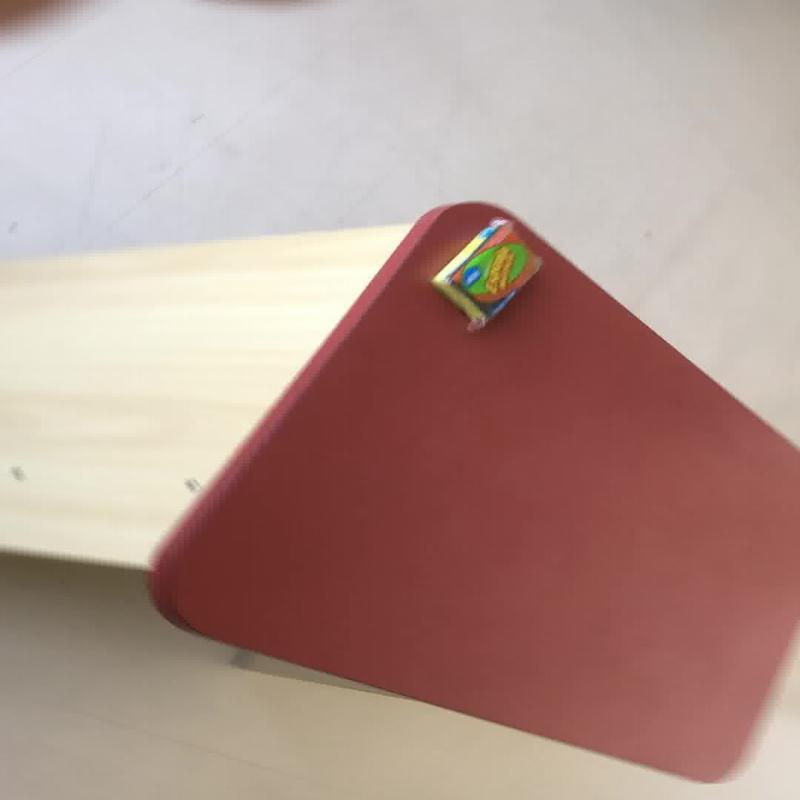sponge: (145, 199, 797, 783), (429, 215, 543, 332)
